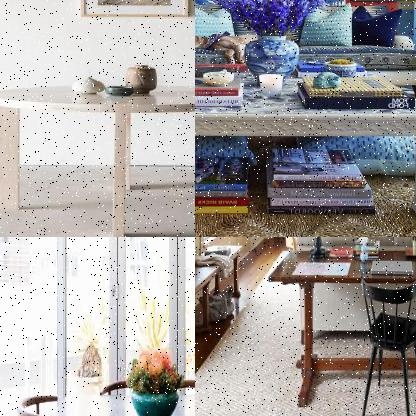table: (195, 66, 415, 225), (0, 81, 194, 236), (266, 242, 415, 409)
